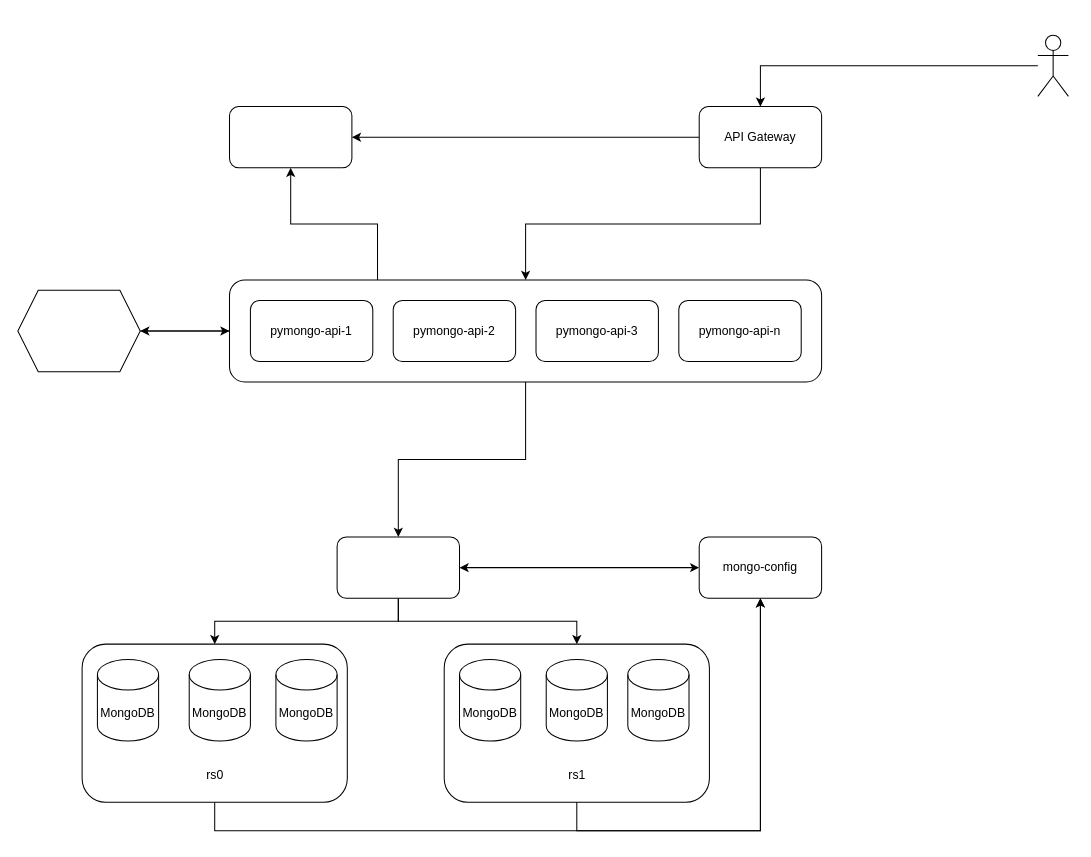
Some shapes in this 1091 by 857 pixel diagram are drawn without their labels. Here are the shapes that lost their labels. From the top down, the centre of each, then its label:
At (x=1052, y=65): "Клиент".
At (x=290, y=137): "Consul".
At (x=78, y=330): "Redis".
At (x=398, y=567): "mongos-router".
